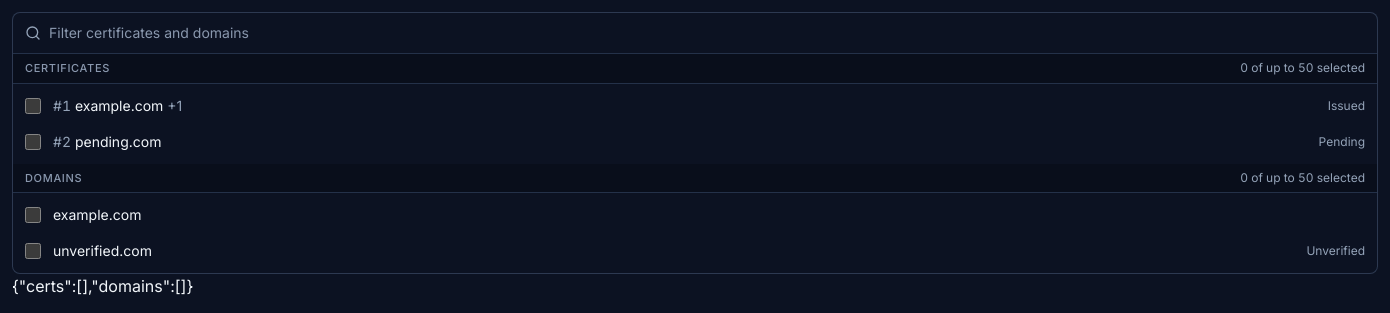
Scenario: RestrictionPicker › lists certificates and domains in one list with selection counts
Click the checkbox labelled "#1 example.com +1 Issued".
click(33, 106)  # box [25,98,41,114]
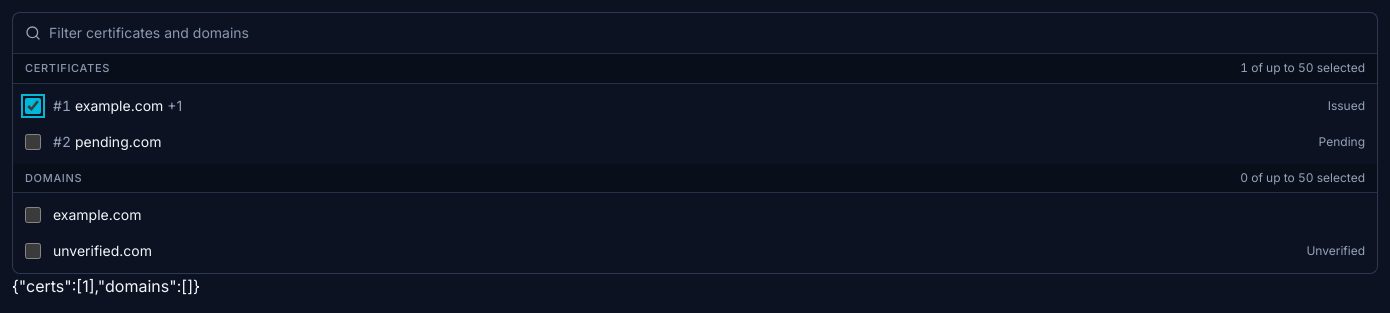
Click the checkbox labelled "example.com".
click(33, 215)  # box [25,207,41,223]
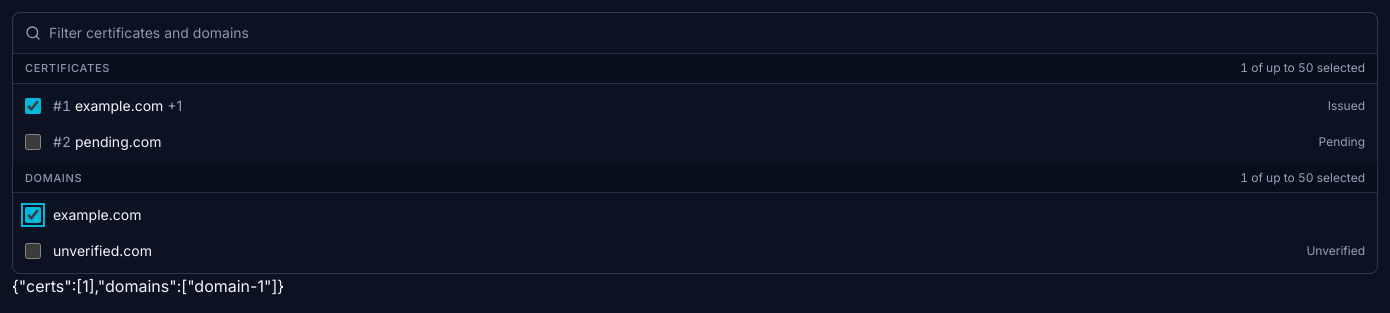
expect the checkbox labelled "unverified.com Unverified" is shown: met, box [25,243,41,259]
expect the text "1 of up to 50 selected" in the row of "Certificates" is shown: met, box [1240,60,1365,76]
expect the text with test id "picked" reads "{\"certs\":[1],\"domains\":[\"domain-1\"]}": met, box [12,276,284,296]
